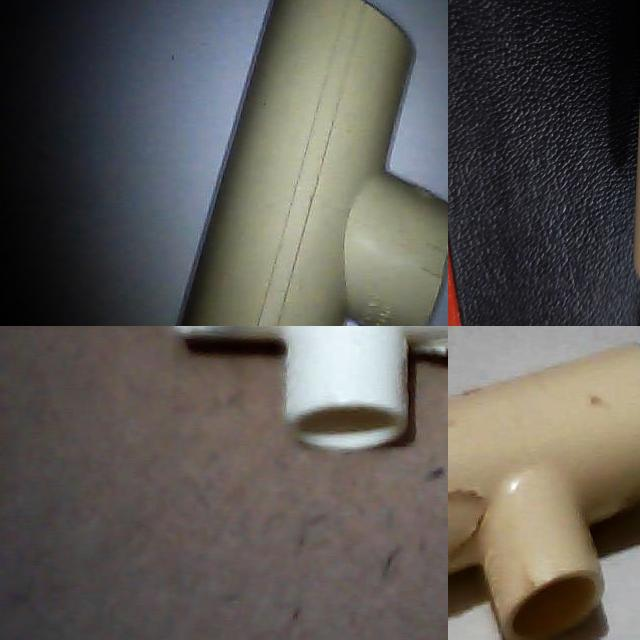Defective: (448, 120, 598, 164), (448, 469, 482, 588)
T Joint: (176, 0, 448, 326), (448, 344, 640, 640), (448, 0, 640, 242), (174, 326, 448, 454)
